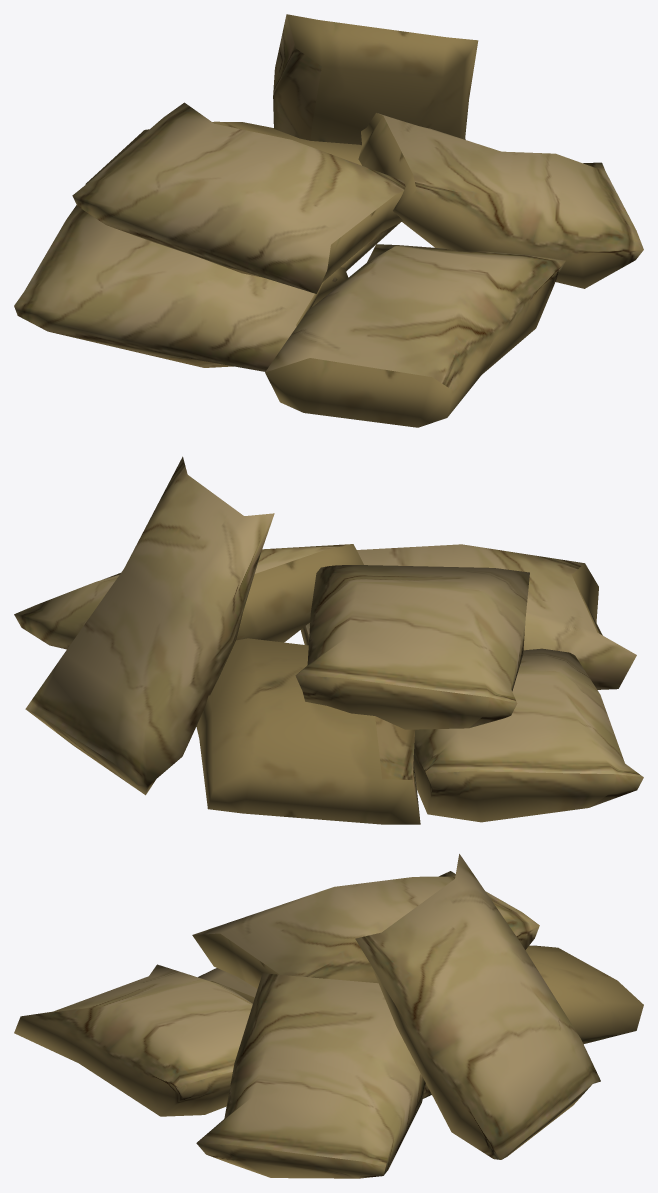
File: sences_changbanpo_wujian024.FBX
3 views of the same model, one above another, from view 1: azimuth 30°, elevation 25°; view 2: azimuth 150°, elevation 25°; view 3: azimuth 270°, elevation 25° (orthographic). The views are drawn at different scales.
Parts seen in each view (by area): view 1: sences_changbanpo_wujian024; view 2: sences_changbanpo_wujian024; view 3: sences_changbanpo_wujian024.
Boxes of the visible parts, left/top/right/bottom form: sences_changbanpo_wujian024: left=14, top=14, right=643, bottom=427; sences_changbanpo_wujian024: left=14, top=456, right=643, bottom=824; sences_changbanpo_wujian024: left=14, top=854, right=643, bottom=1178.
Size of the model in its own units: 3.81 by 3.67 by 1.56.
